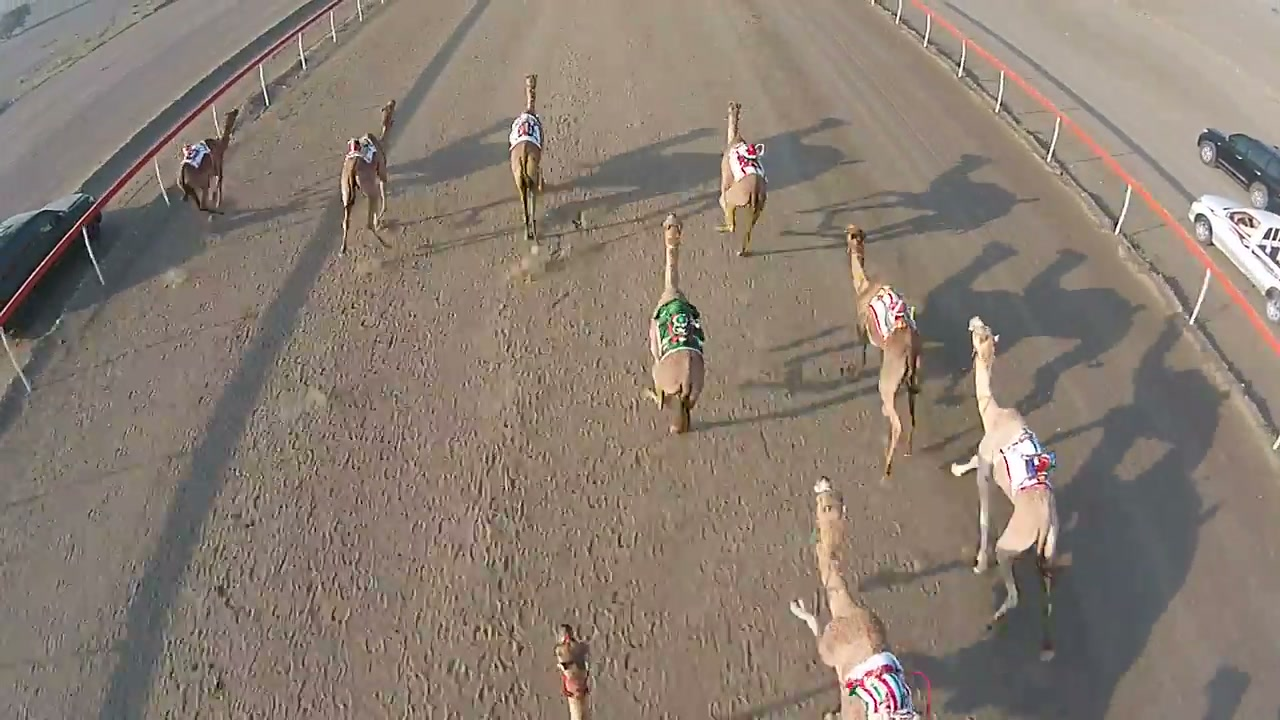animal_foot_print: (175, 258, 395, 704), (433, 246, 557, 719), (562, 366, 697, 717)
